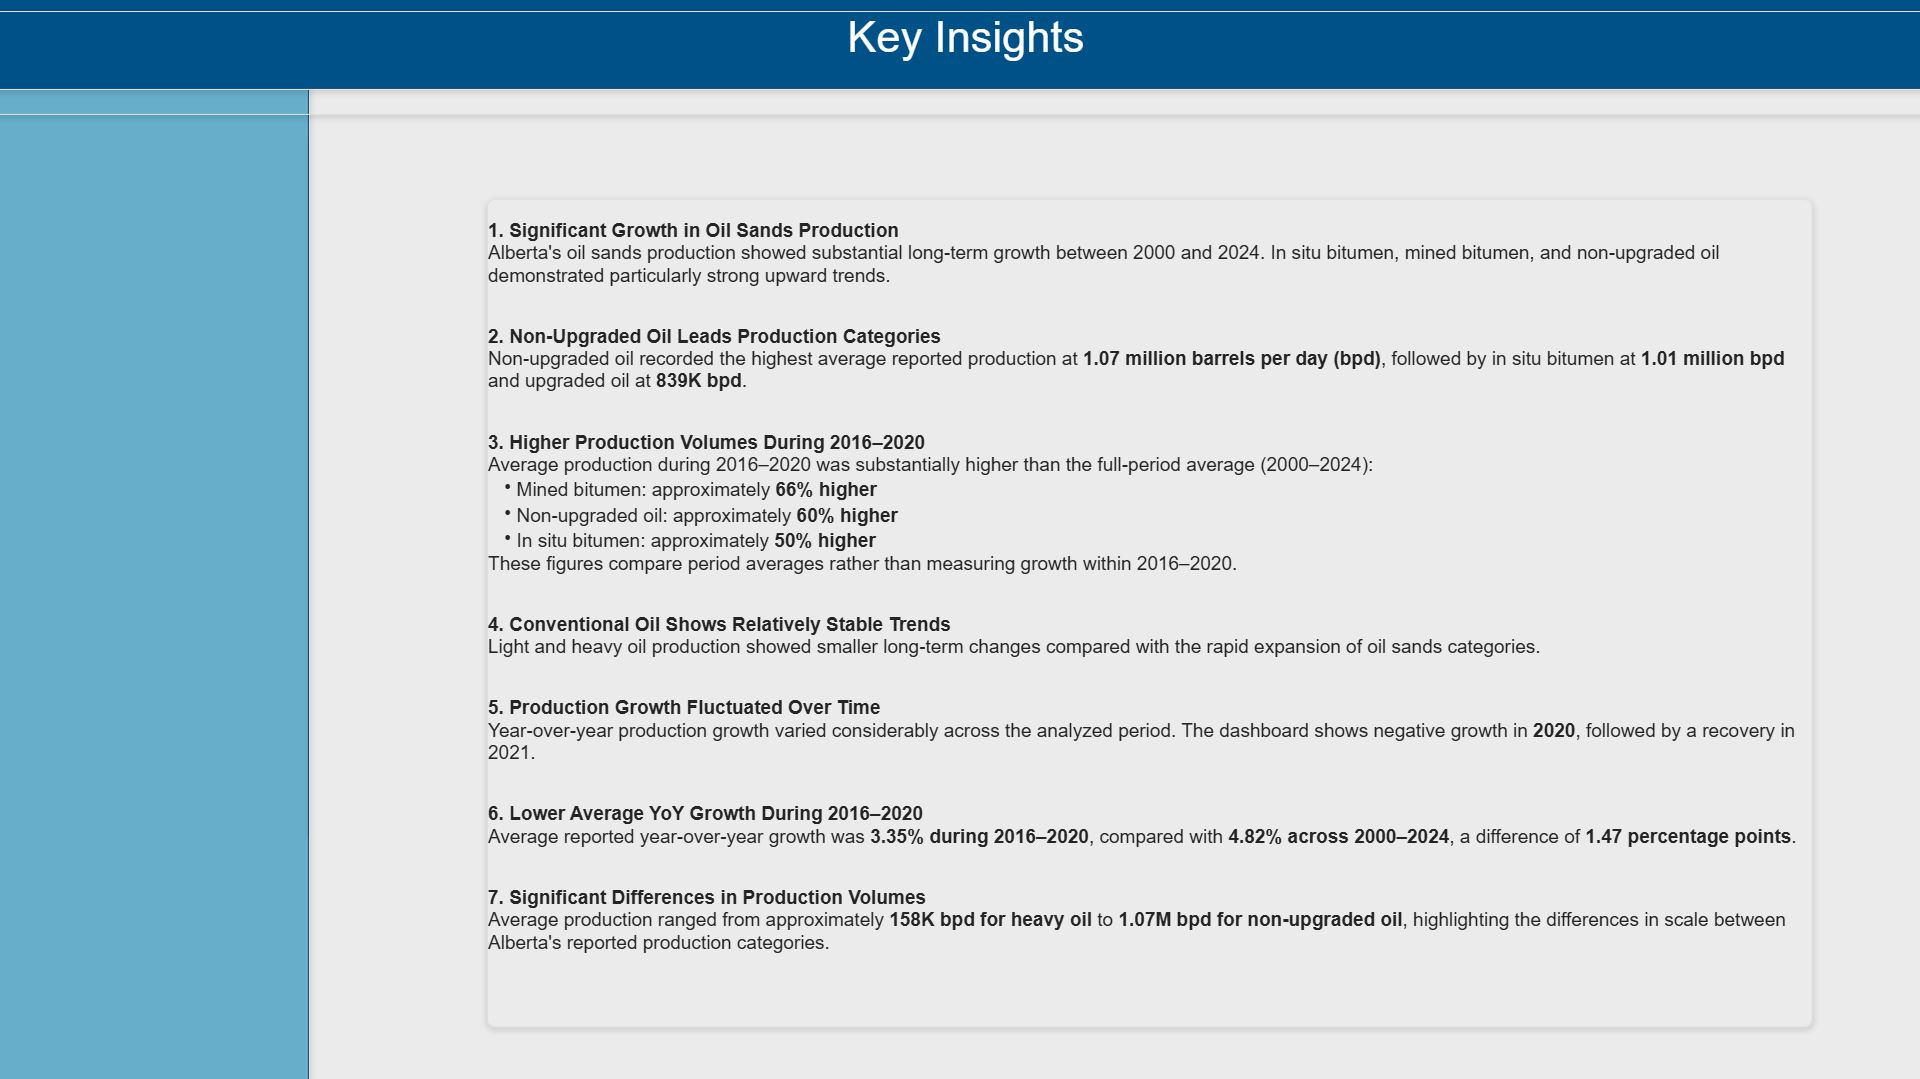

The page's visual inventory and layout, read from the dashboard file:
{"tool":"powerbi","page":{"name":"Key insights ","canvas":[1920,1080],"ordinal":1},"visuals":[{"type":"shape","box":[0,0,316,1080.2],"z":0},{"type":"shape","box":[0,0,1919.8,102.5],"z":1000},{"type":"textbox","box":[0,24.5,1920,102.4],"z":2000},{"type":"textbox","box":[490,208.8,1301.2,812.5],"z":3000}]}

Visuals, with their boxes in screenshot pixels (x1, y1, x2, y2), scaled from the page's 1920x1080 canvas onto the 1920x1079 screenshot:
shape: bbox=[0, 0, 316, 1078]
shape: bbox=[0, 0, 1919, 102]
textbox: bbox=[0, 24, 1919, 127]
textbox: bbox=[490, 209, 1791, 1020]
